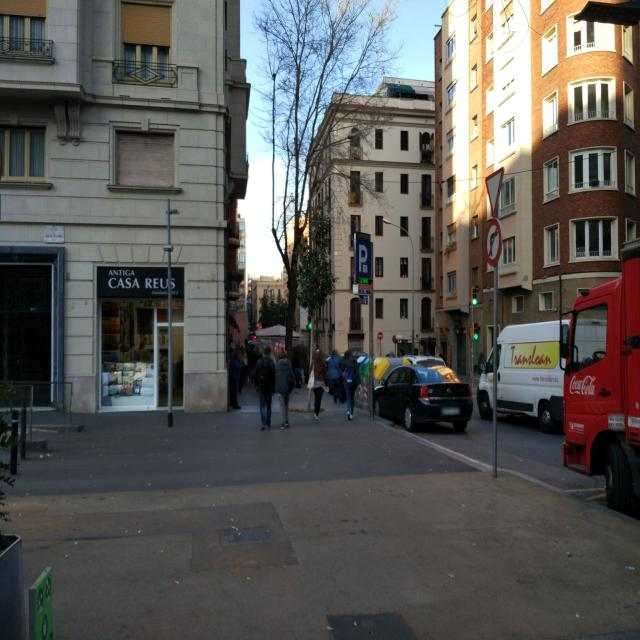car: (372, 365, 474, 433)
